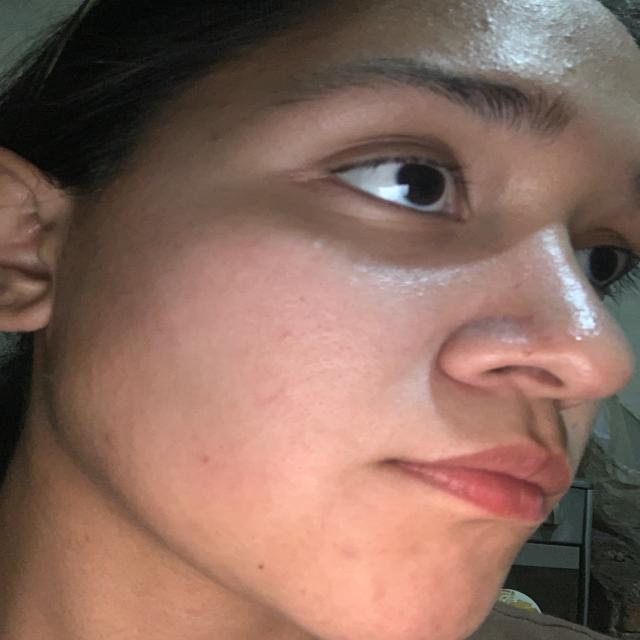Acne: (364, 586, 396, 614), (330, 540, 361, 563), (429, 618, 457, 636), (457, 607, 483, 624), (558, 55, 582, 73), (557, 32, 583, 47), (100, 433, 120, 449), (480, 17, 499, 33), (216, 100, 238, 112), (518, 349, 541, 360), (455, 0, 470, 14), (295, 582, 309, 597), (204, 134, 221, 146), (196, 453, 213, 464), (440, 6, 455, 16)
Englarged-Pores: (290, 314, 394, 424)
